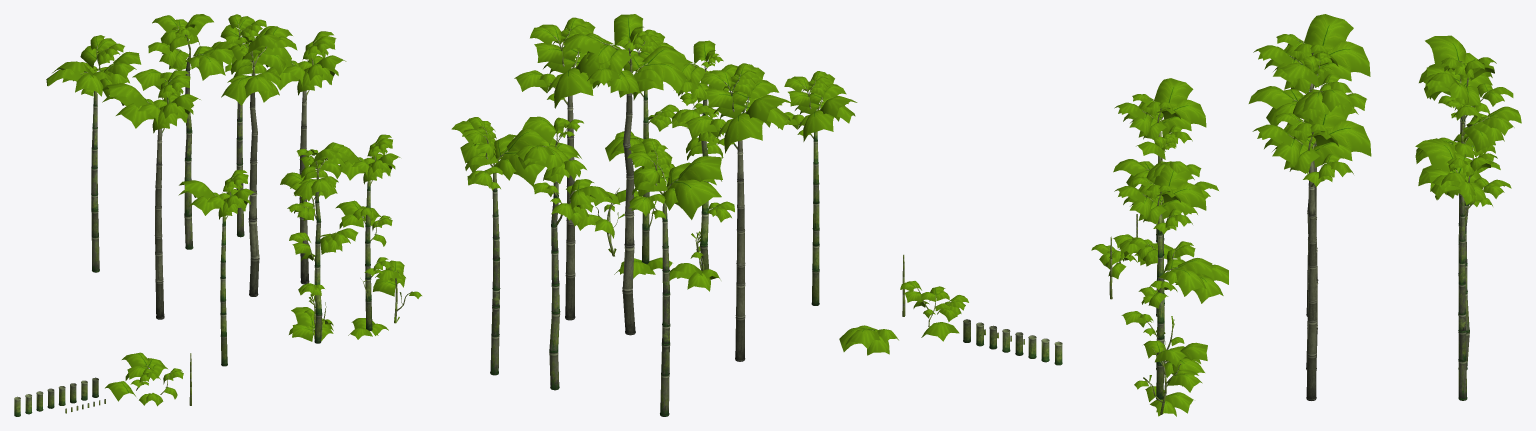
File: BambooSet.fbx
3 renders of one model, left to right at view 1: azimuth 30°, elevation 25°; view 2: azimuth 150°, elevation 25°; view 3: azimuth 270°, elevation 25°, orthographic. The views are drawn at different scales.
Parts seen in each view (by area): view 1: Object_35.001, Object_58.001, Object_46.001, Object_40.001, Object_43.001, Object_55.001, Object_63.001, Object_68.001, Object_60.001, Object_56.001, Object_44.001, Object_51.001 (+8 smaller); view 2: Object_58.001, Object_55.001, Object_43.001, Object_46.001, Object_35.001, Object_63.001, Object_51.001, Object_68.001, Object_40.001, Object_60.001, Object_56.001, Object_44.001 (+8 smaller); view 3: Object_40.001, Object_63.001, Object_55.001, Object_43.001, Object_35.001, Object_58.001, Object_51.001, Object_68.001, Object_46.001, Object_64.001, Object_52.001, Object_16.001 (+4 smaller).
Boxes of the visible parts, <box> form: Object_35.001: <box>280,142,358,341</box>; Object_58.001: <box>221,26,297,105</box>; Object_46.001: <box>132,14,233,108</box>; Object_40.001: <box>324,134,400,339</box>; Object_43.001: <box>46,35,141,96</box>; Object_55.001: <box>102,70,200,133</box>; Object_63.001: <box>254,31,346,95</box>; Object_68.001: <box>178,170,256,219</box>; Object_60.001: <box>248,92,259,296</box>; Object_56.001: <box>154,128,164,319</box>; Object_44.001: <box>91,91,99,272</box>; Object_51.001: <box>196,14,277,71</box>; Object_58.001: <box>564,14,688,97</box>; Object_55.001: <box>685,63,793,153</box>; Object_43.001: <box>627,139,723,219</box>; Object_46.001: <box>514,116,612,226</box>; Object_35.001: <box>669,40,737,291</box>; Object_63.001: <box>514,17,611,108</box>; Object_51.001: <box>451,117,553,190</box>; Object_68.001: <box>778,71,857,141</box>; Object_40.001: <box>605,29,678,278</box>; Object_60.001: <box>622,93,635,335</box>; Object_56.001: <box>735,140,745,361</box>; Object_44.001: <box>660,202,670,416</box>; Object_40.001: <box>1114,161,1212,416</box>; Object_63.001: <box>1252,101,1371,187</box>; Object_55.001: <box>1253,14,1370,93</box>; Object_43.001: <box>1419,35,1513,113</box>; Object_35.001: <box>1113,133,1218,386</box>; Object_58.001: <box>1248,52,1366,125</box>; Object_51.001: <box>1415,138,1511,206</box>; Object_68.001: <box>1114,78,1206,147</box>; Object_46.001: <box>1415,95,1521,198</box>; Object_64.001: <box>1306,161,1316,400</box>; Object_52.001: <box>1458,195,1467,400</box>; Object_16.001: <box>1134,340,1202,413</box>.
Bounding box in the file's own units: 7267 × 4704 × 5686.
